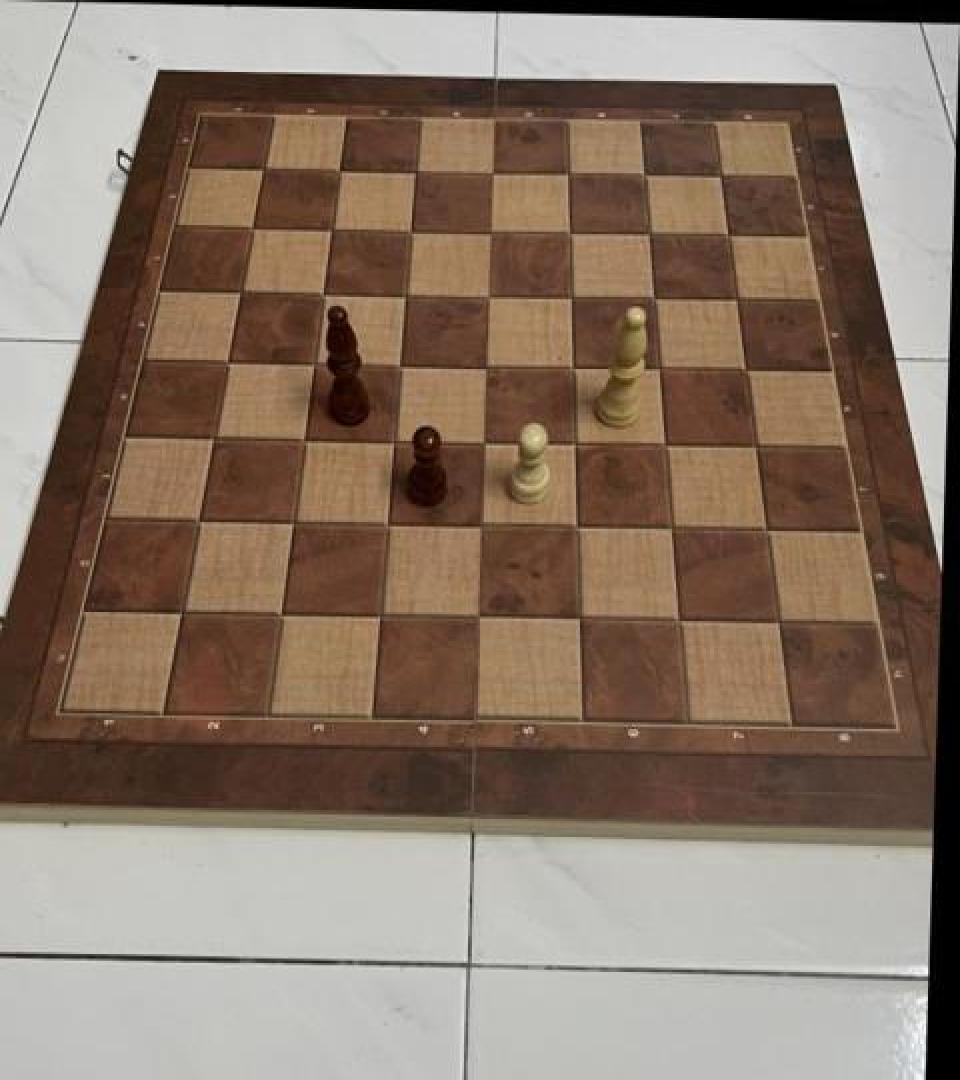xcorner: (703, 156, 739, 197), (626, 155, 662, 196), (243, 147, 279, 188), (391, 209, 427, 250), (311, 208, 347, 249), (719, 280, 755, 321), (385, 273, 421, 314), (302, 272, 338, 313), (220, 271, 256, 312), (466, 345, 502, 386), (379, 344, 415, 385), (646, 426, 682, 467), (555, 424, 591, 465), (192, 416, 228, 457), (557, 507, 593, 548), (461, 506, 497, 547), (760, 605, 796, 646), (358, 596, 394, 637), (549, 153, 585, 193), (472, 152, 508, 192), (396, 151, 432, 191), (319, 150, 355, 190), (711, 216, 747, 256), (630, 214, 666, 254), (550, 213, 586, 253), (470, 212, 506, 252), (232, 207, 268, 247), (635, 279, 671, 319), (552, 277, 588, 317), (468, 276, 504, 316), (728, 351, 764, 391), (640, 349, 676, 389), (553, 348, 589, 388), (293, 342, 329, 382), (206, 340, 242, 380), (737, 428, 773, 468), (464, 422, 500, 462), (373, 420, 409, 460), (283, 419, 319, 459), (748, 512, 784, 552), (652, 510, 688, 550), (366, 504, 402, 544), (271, 502, 307, 542), (176, 500, 212, 540), (659, 603, 695, 643), (559, 601, 595, 641), (458, 599, 494, 639), (259, 594, 295, 634), (159, 591, 195, 631)
